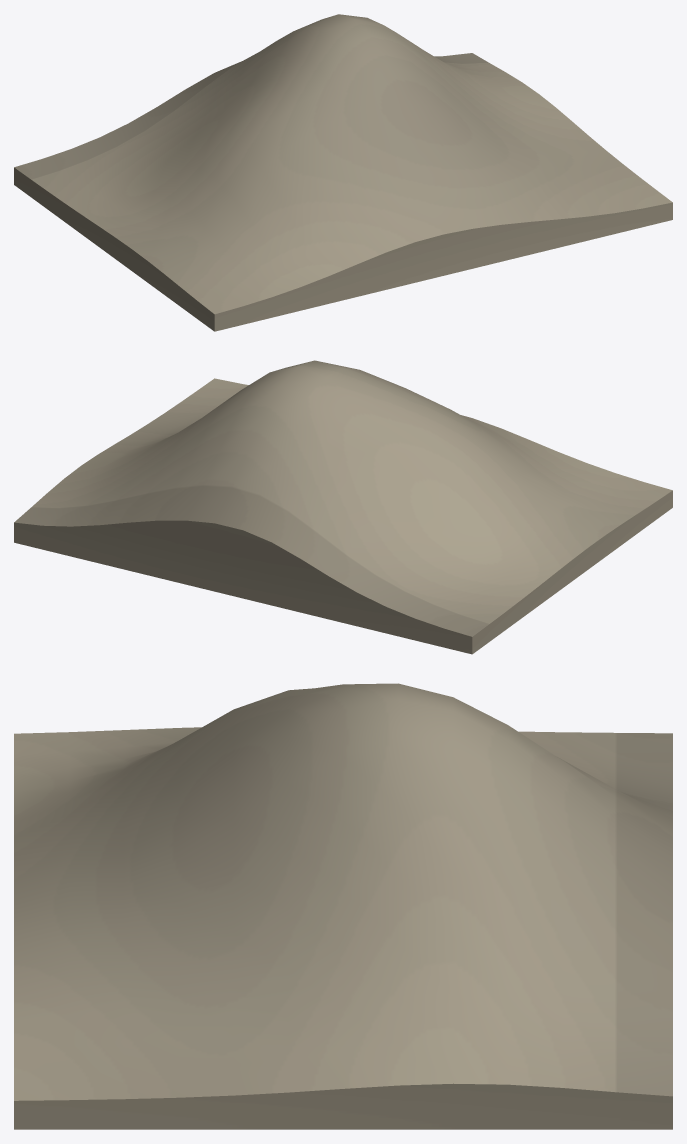
3 renders of one model, top to bottom at view 1: azimuth 30°, elevation 25°; view 2: azimuth 150°, elevation 25°; view 3: azimuth 270°, elevation 25°, orthographic. The views are drawn at different scales.
Visible parts, largest first — view 1: santiago; view 2: santiago; view 3: santiago.
Part boxes in pixels (bbox=[...]): santiago: bbox=[14, 14, 672, 331]; santiago: bbox=[14, 360, 672, 654]; santiago: bbox=[14, 683, 672, 1129].
Bounding box in the file's own units: 7.33 × 2.5 × 5.56.
Materials: 1 (1 with a texture image).
